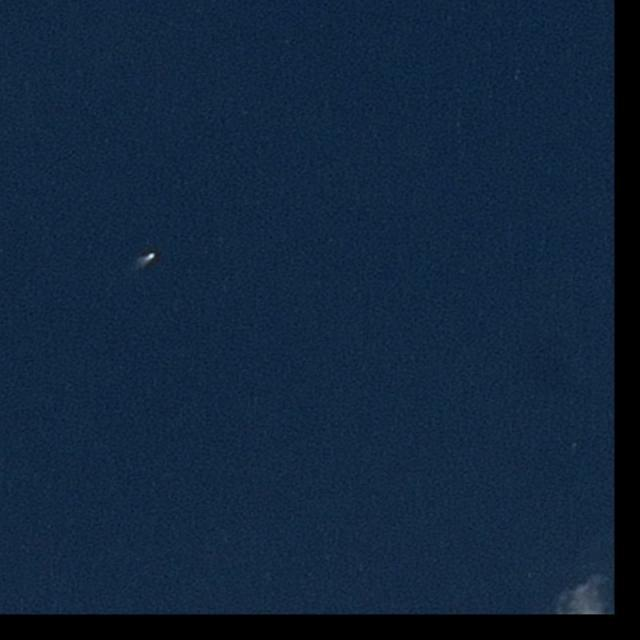ship: (143, 252, 157, 263)
